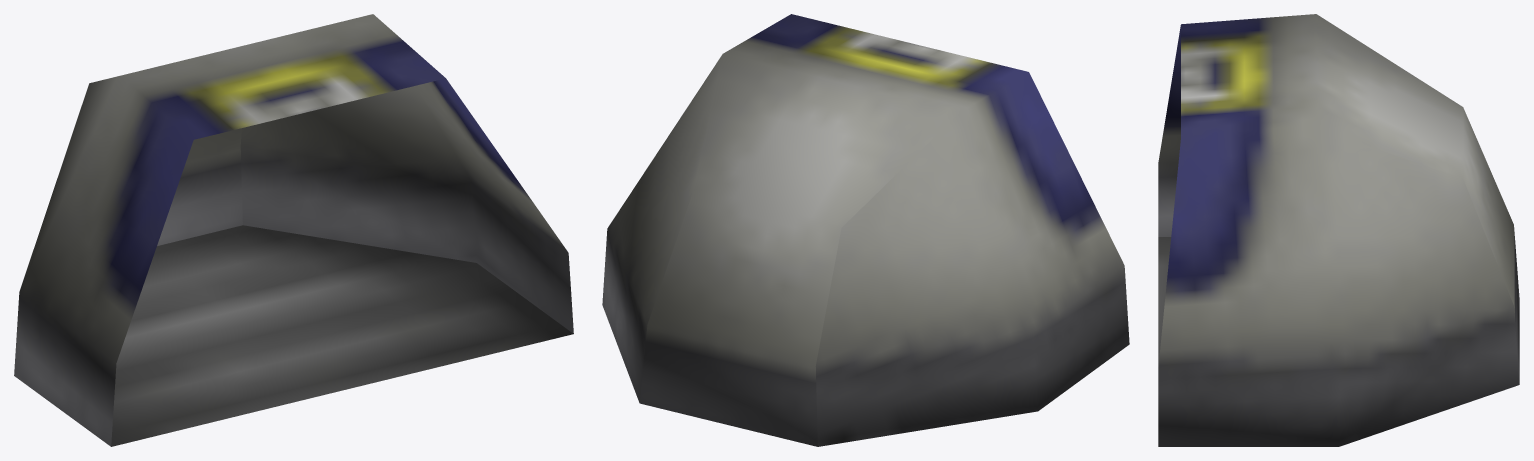
Rendered from batch_0108.obj.
3 views of the same model, side by side, from view 1: azimuth 30°, elevation 25°; view 2: azimuth 150°, elevation 25°; view 3: azimuth 270°, elevation 25° (orthographic). The views are drawn at different scales.
Visible parts, largest first — view 1: batch_0108; view 2: batch_0108; view 3: batch_0108.
Part boxes in pixels (<box>): batch_0108: <box>14,14,573,446</box>; batch_0108: <box>602,14,1129,446</box>; batch_0108: <box>1158,14,1519,446</box>.
Size of the model in its own units: 22 by 13 by 16.
1 material, 1 textured.
